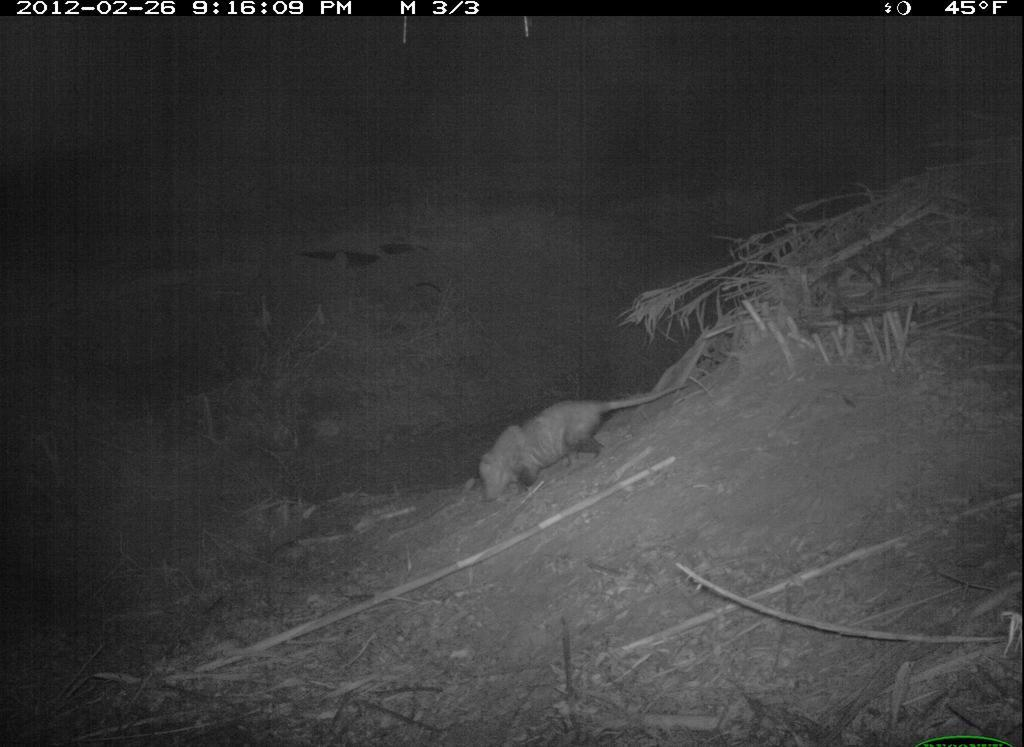opossum: (472, 361, 741, 517)
